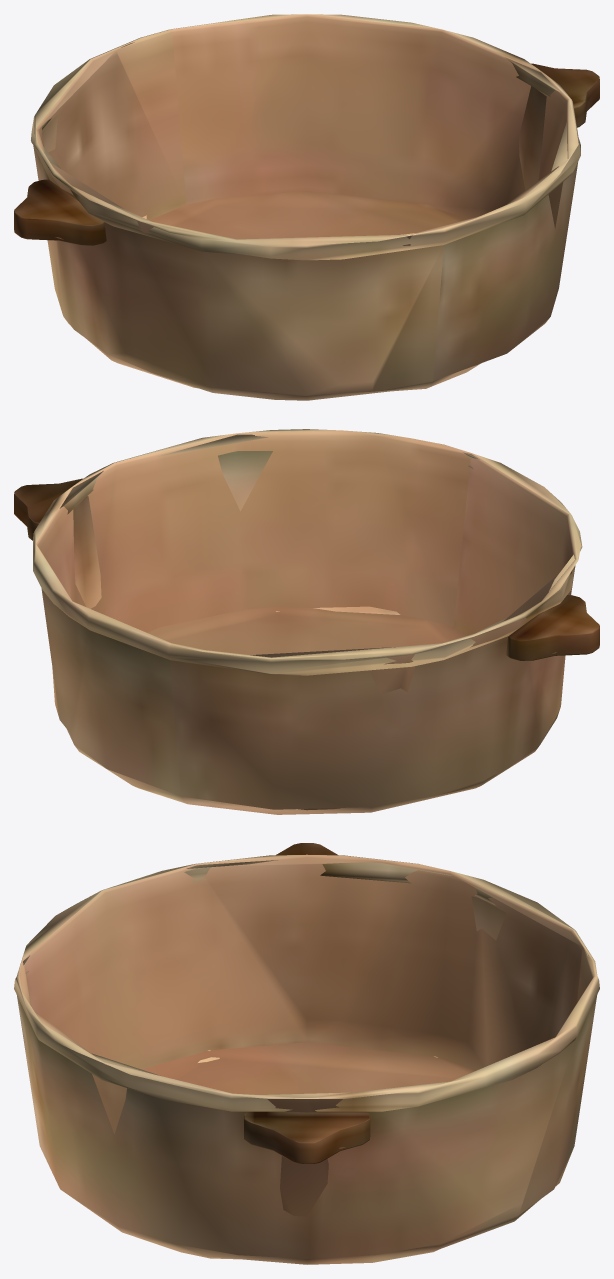
3 views of the same model, one above another, from view 1: azimuth 30°, elevation 25°; view 2: azimuth 150°, elevation 25°; view 3: azimuth 270°, elevation 25° (orthographic). The views are drawn at different scales.
Parts seen in each view (by area): view 1: brass_pot_02; view 2: brass_pot_02; view 3: brass_pot_02.
Part boxes in pixels (box(x1,y1,x2,y2)): brass_pot_02: box(14, 14, 599, 400); brass_pot_02: box(14, 429, 599, 814); brass_pot_02: box(14, 843, 599, 1264).
Bounding box in the file's own units: 0.3655 × 0.1066 × 0.3023.
1 material, 1 textured.
